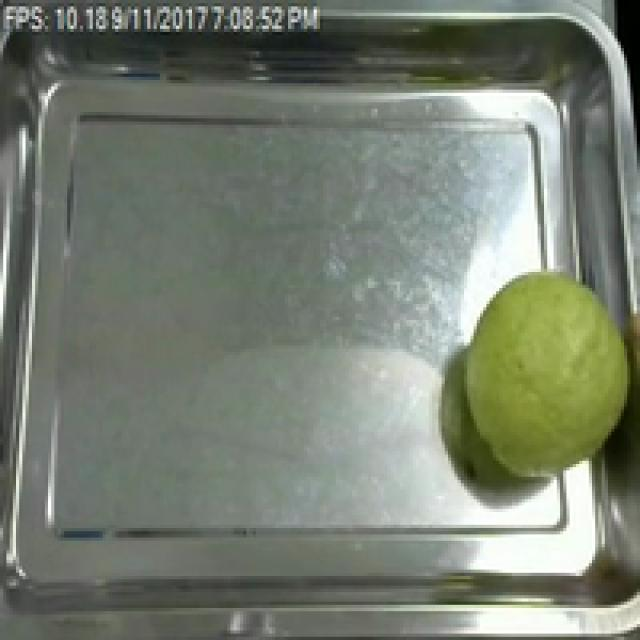Fruit: (448, 259, 640, 493)
